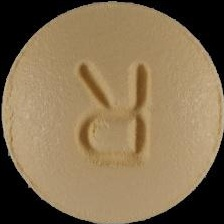0904-6552: (0, 0, 224, 224)
